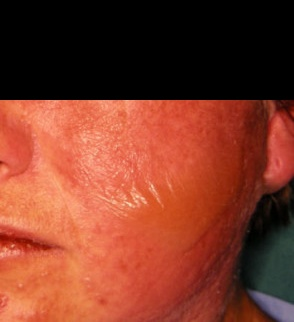SJS-TEN: (0, 106, 294, 322)
